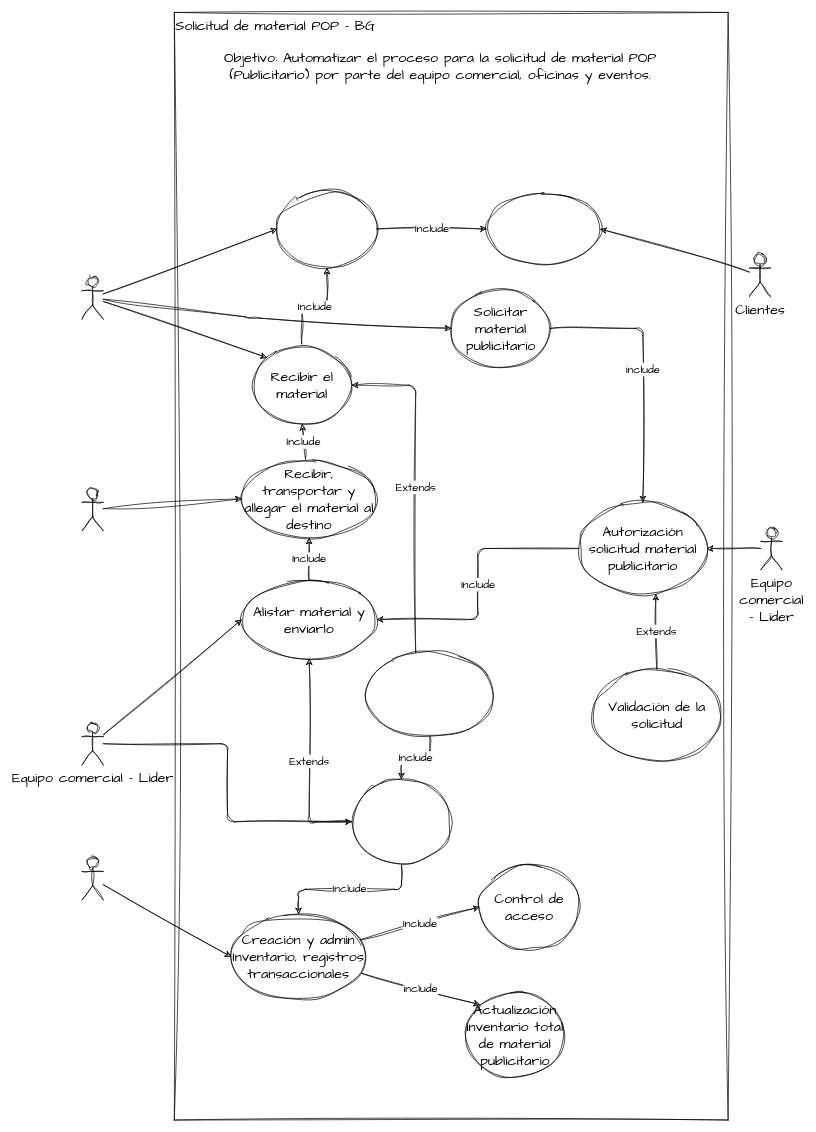
Image size: 816x1132. Some labels were removed from this diagram. Each missing label, with the centre of its shape:
"Actualizar regisro transacciones" belongs at [401,821].
"Admin" belongs at [92,878].
"Entregar material publicitario" belongs at [327,228].
"Equipo comercial colaborador" belongs at [92,297].
"Legalizar las entregas de material publicitario" belongs at [429,694].
"Proveedor logístico" belongs at [92,509].
"Recibir material publicitario" belongs at [543,228].
